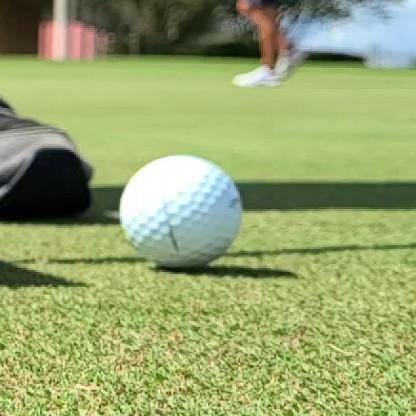golfball: (120, 155, 242, 266)
